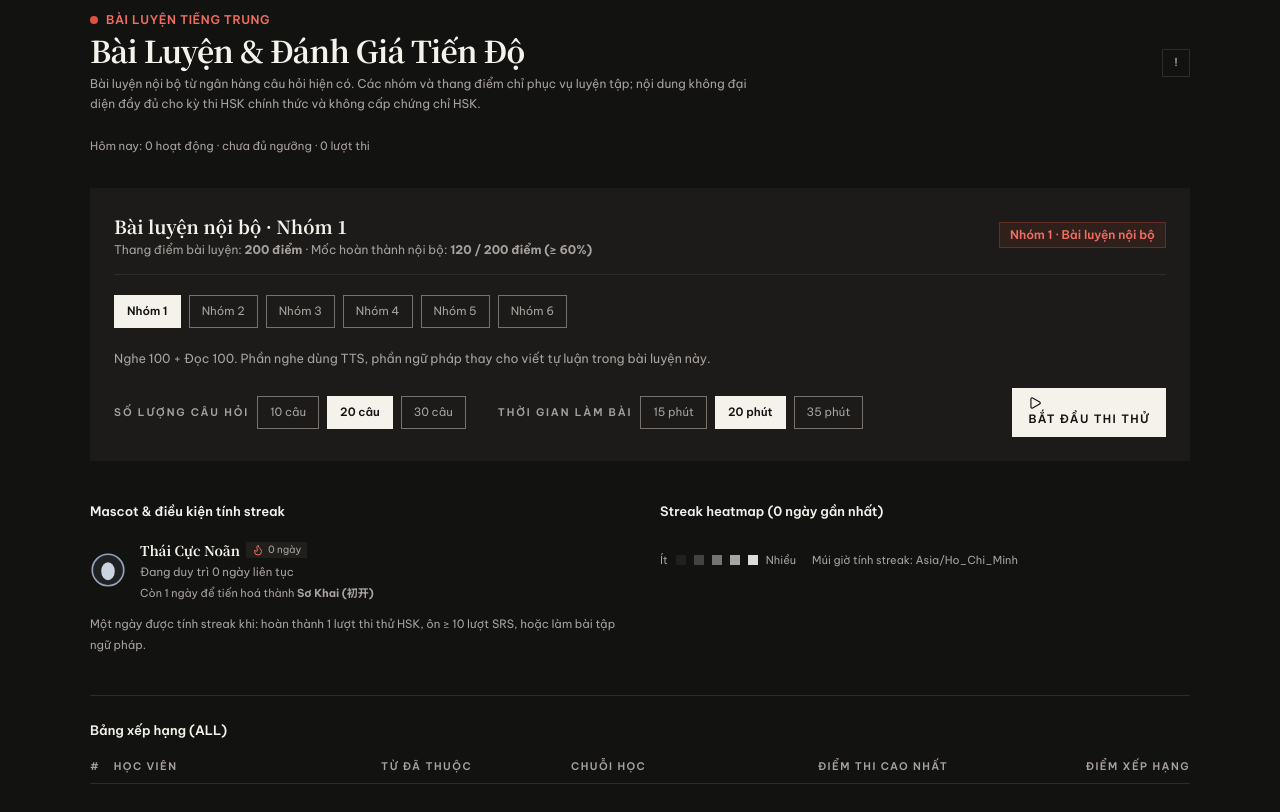
speech status error gives accessible recovery without changing the attempt
The image size is (1280, 812).
Click the button "Bắt đầu thi thử": (1089, 413) [1012,388,1166,437]
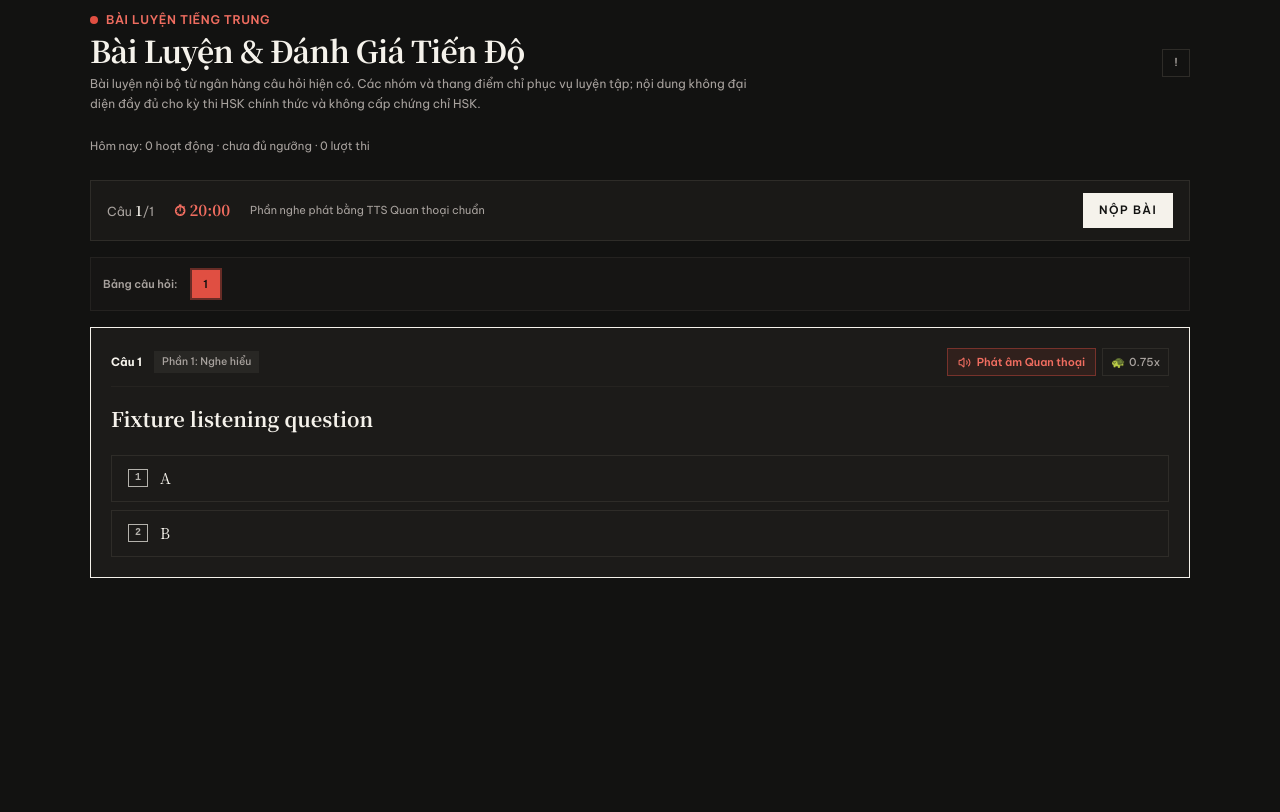
Now the text "Fixture listening question" is shown, box [111,404,373,433]
Click the button "Phát âm Quan thoại": (1021, 362) [947,348,1096,376]
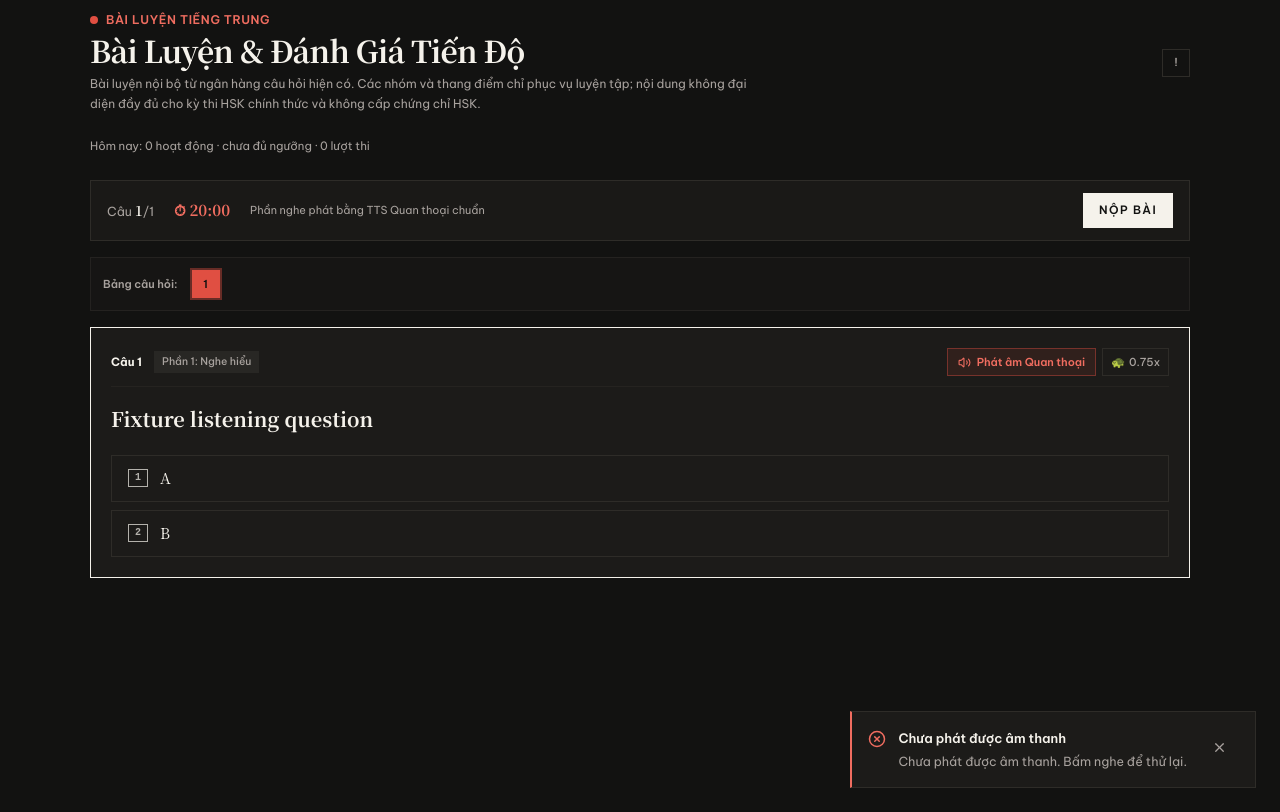
Now the message shows "Bấm nghe để thử lại", box [898,753,1187,769]
